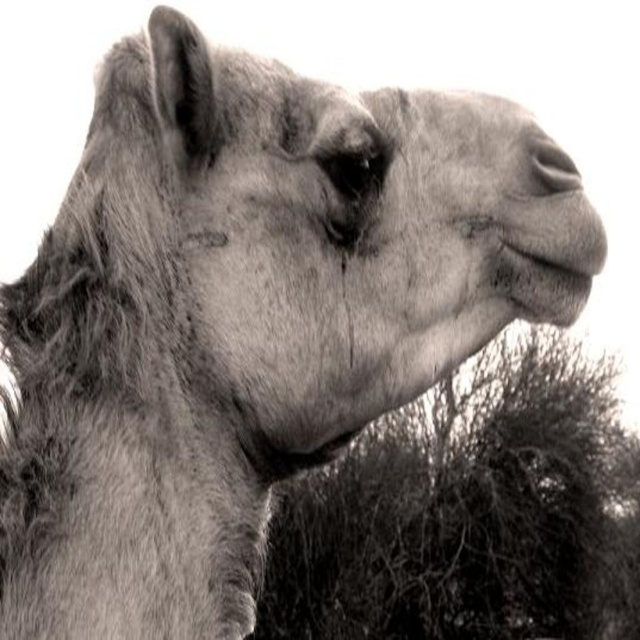Camel: (0, 9, 610, 638)
